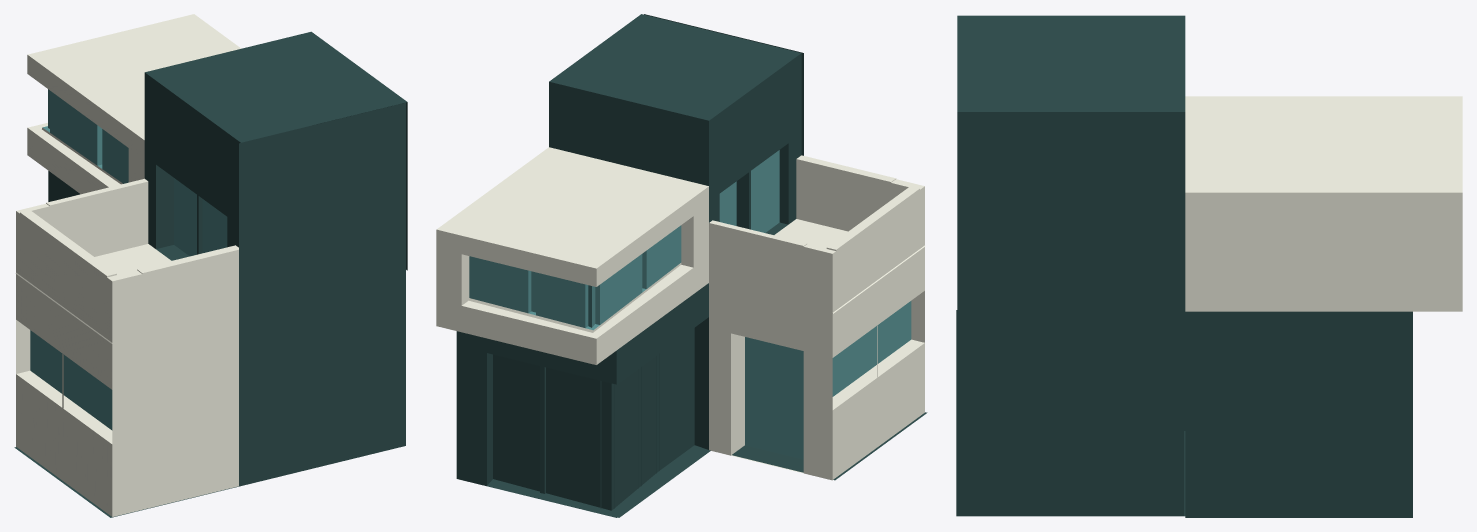
Rendered from rumah _haikal.glb.
3 views of the same model, side by side, from view 1: azimuth 30°, elevation 25°; view 2: azimuth 150°, elevation 25°; view 3: azimuth 270°, elevation 25° (orthographic). The views are drawn at different scales.
Parts seen in each view (by area): view 1: Cube.003, Cube, Cube.002, Cube.001, Cube.011, Cube.009, Cube.005, Cube.006, Cube.004; view 2: Cube.003, Cube.001, Cube.002, Cube.010, Cube.004, Cube.007, Cube.005, Cube, Cube.006, Cube.011, Cube.009; view 3: Cube.002, Cube.001, Cube, Cube.004.
Part boxes in pixels (x1,y1,x2,y2): Cube.003: (15, 178, 238, 516); Cube: (14, 102, 405, 517); Cube.002: (144, 31, 407, 270); Cube.001: (27, 14, 240, 194); Cube.011: (30, 330, 112, 430); Cube.009: (174, 178, 227, 256); Cube.005: (42, 89, 102, 168); Cube.006: (102, 129, 128, 183); Cube.004: (48, 171, 80, 201); Cube.003: (709, 155, 925, 480); Cube.001: (436, 147, 708, 364); Cube.002: (549, 14, 801, 234); Cube.010: (493, 328, 694, 507); Cube.004: (456, 283, 708, 517); Cube.007: (745, 337, 803, 459); Cube.005: (528, 250, 646, 330); Cube: (487, 14, 927, 517); Cube.006: (469, 225, 681, 313); Cube.011: (832, 301, 911, 396); Cube.009: (719, 150, 779, 232); Cube.002: (957, 15, 1185, 311); Cube.001: (1185, 96, 1462, 311); Cube: (956, 310, 1185, 516); Cube.004: (1185, 311, 1412, 517).
Bounding box in the file's own units: 12.11 × 13.48 × 15.08.
